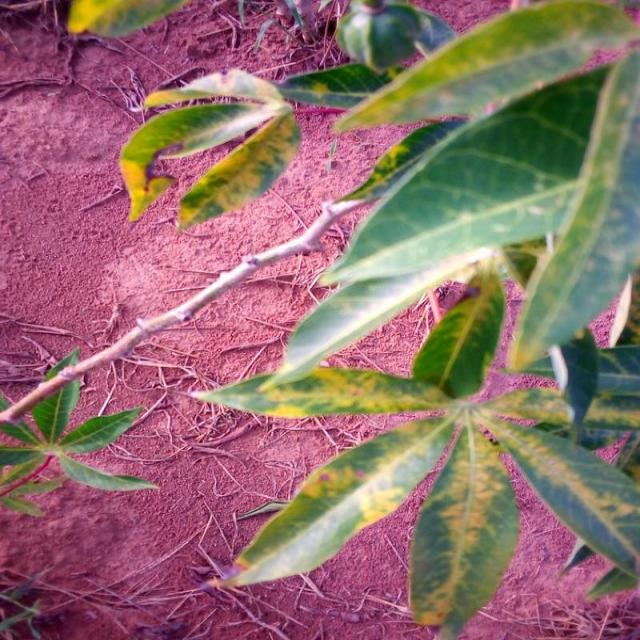cassava leaf: (197, 266, 638, 636), (258, 48, 638, 395), (118, 67, 301, 232)
